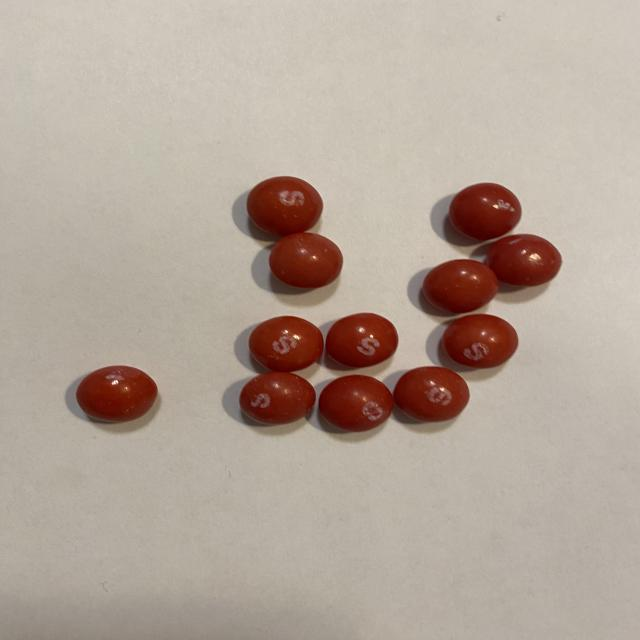smartie: (75, 366, 157, 423), (246, 176, 323, 236), (318, 376, 394, 432), (393, 367, 470, 422), (449, 182, 522, 240), (248, 316, 323, 372), (442, 314, 519, 368), (269, 232, 343, 288), (423, 259, 499, 313), (239, 372, 315, 425), (326, 313, 398, 368), (487, 234, 563, 286)
